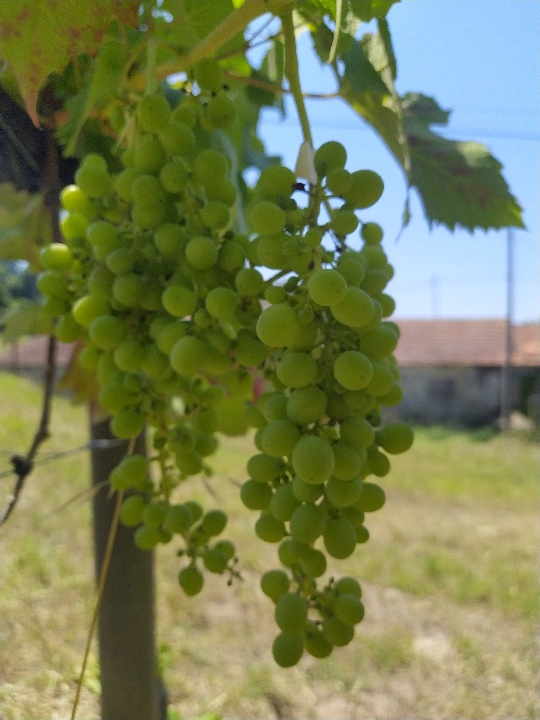grape: (36, 60, 252, 599), (238, 139, 416, 673)
